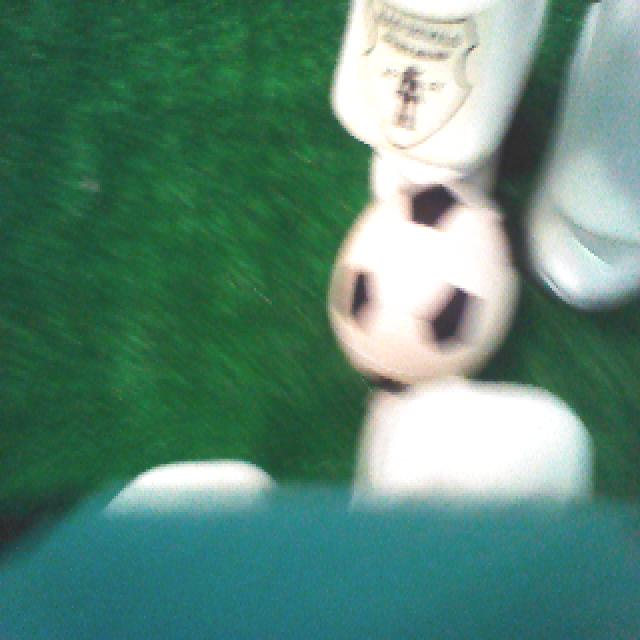ball: (334, 176, 516, 384)
